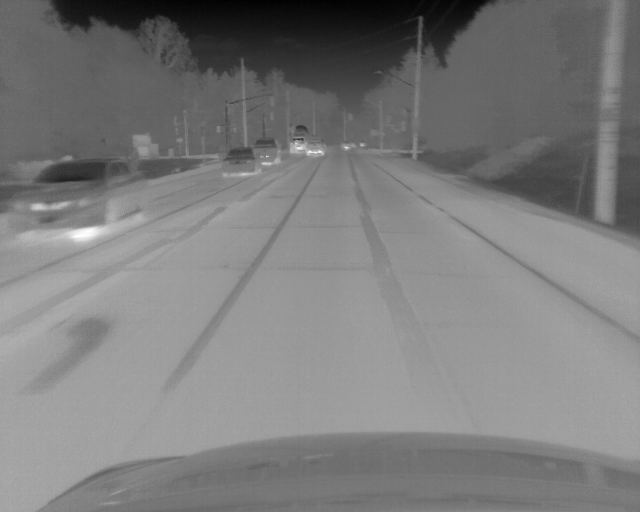car: (9, 157, 148, 233), (223, 148, 260, 175), (255, 137, 280, 165), (289, 125, 307, 157), (307, 139, 325, 159), (341, 142, 355, 152), (359, 141, 367, 149)
